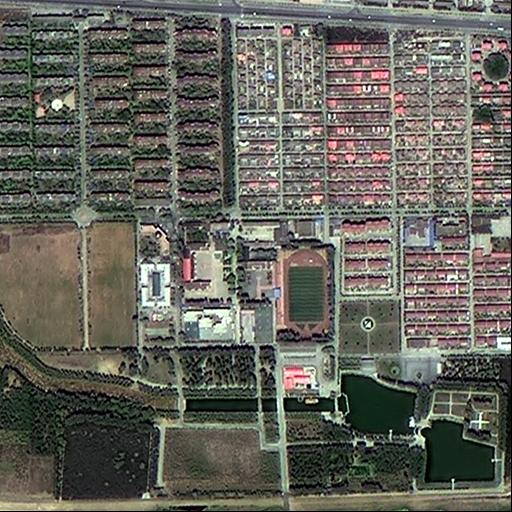school: (179, 215, 335, 342)
